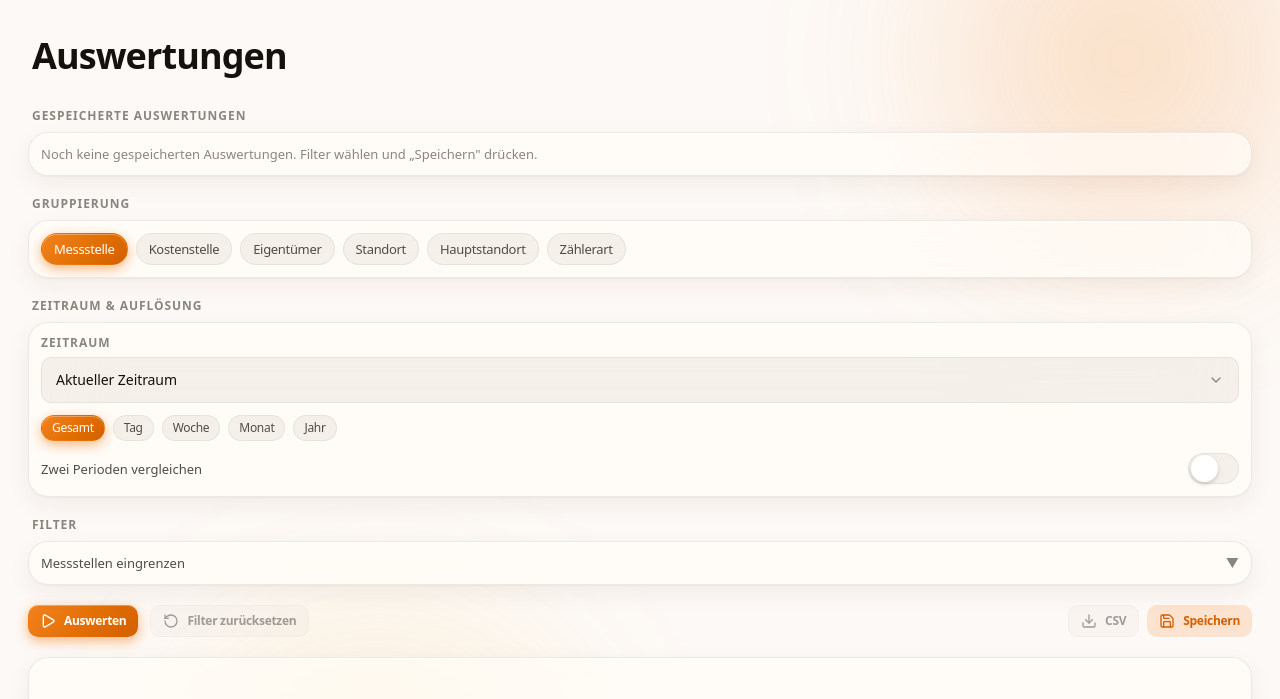
Test: ReportsPage — explizites Auswerten › zeigt den partial-Hinweis, wenn das Backend partial=true meldet
This screenshot has width=1280, height=699.
Click the button "Auswerten": {"x": 83, "y": 621} left=28, top=605, right=138, bottom=637
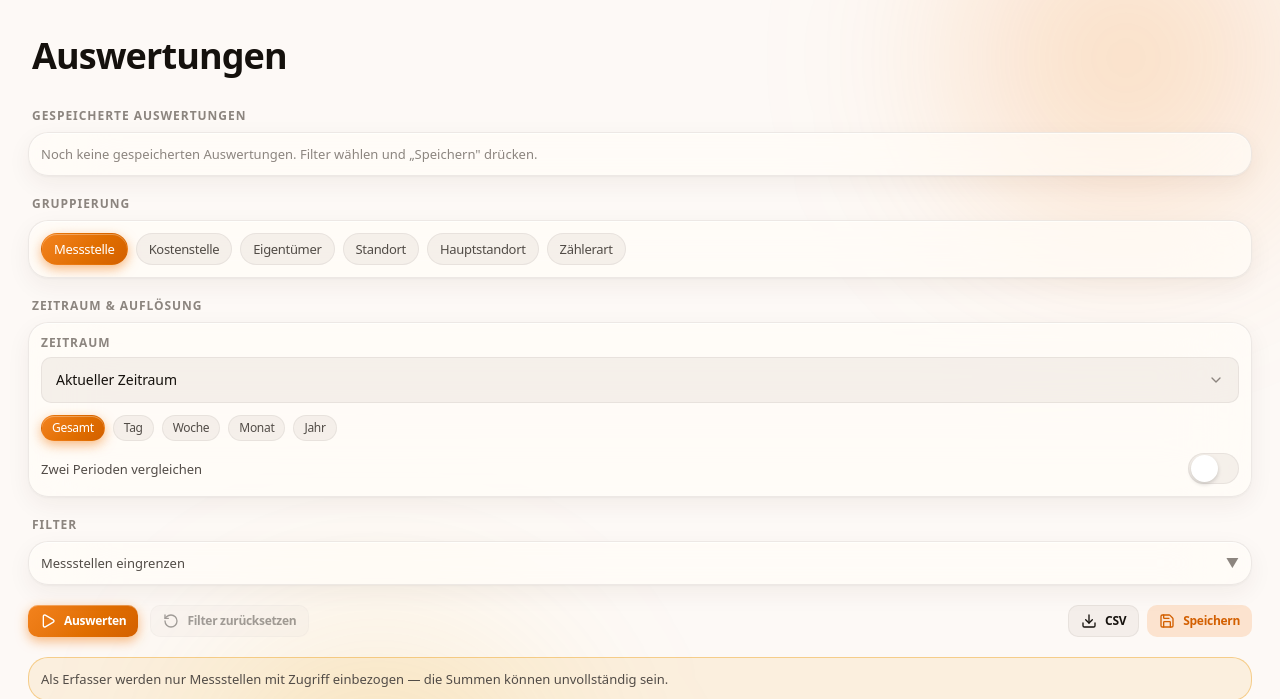
Now the text "nur Messstellen mit Zugriff" is shown, box left=41, top=670, right=668, bottom=688
